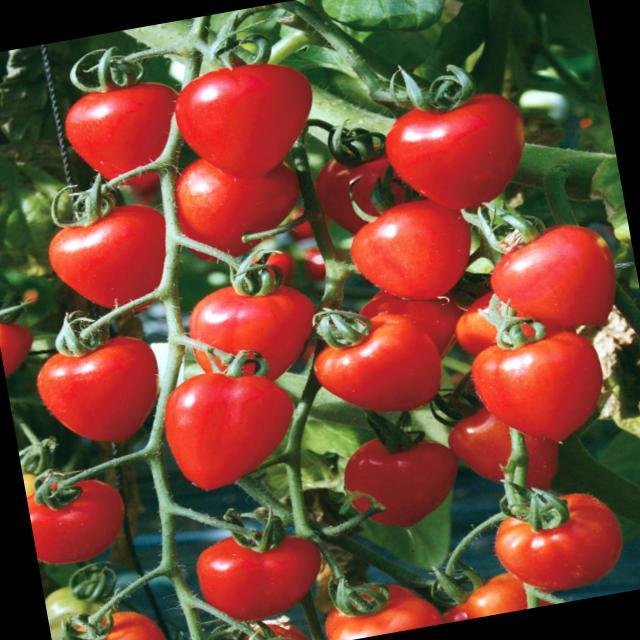TOMATO: (170, 55, 330, 184), (388, 90, 544, 217), (160, 363, 300, 494), (466, 324, 608, 449), (489, 471, 631, 595), (164, 147, 306, 266), (34, 331, 168, 452), (490, 219, 621, 336), (44, 202, 181, 313), (311, 313, 445, 422), (345, 190, 468, 302), (58, 80, 174, 194), (196, 524, 326, 625), (344, 430, 463, 522), (24, 468, 125, 572), (323, 576, 440, 640), (443, 564, 532, 622), (54, 606, 174, 640), (44, 570, 104, 626), (0, 307, 41, 385)
